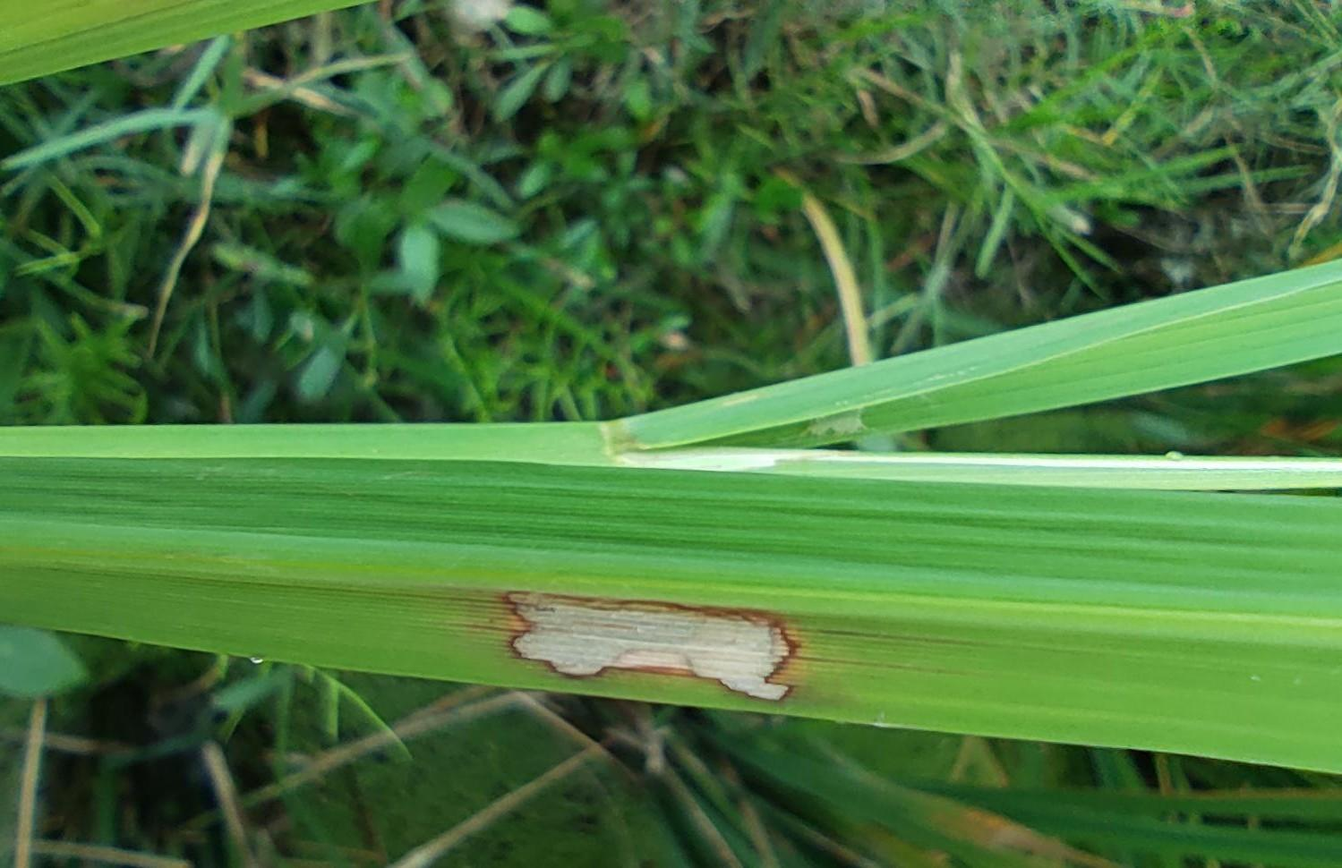LEAF BLAST: (500, 589, 806, 704)
